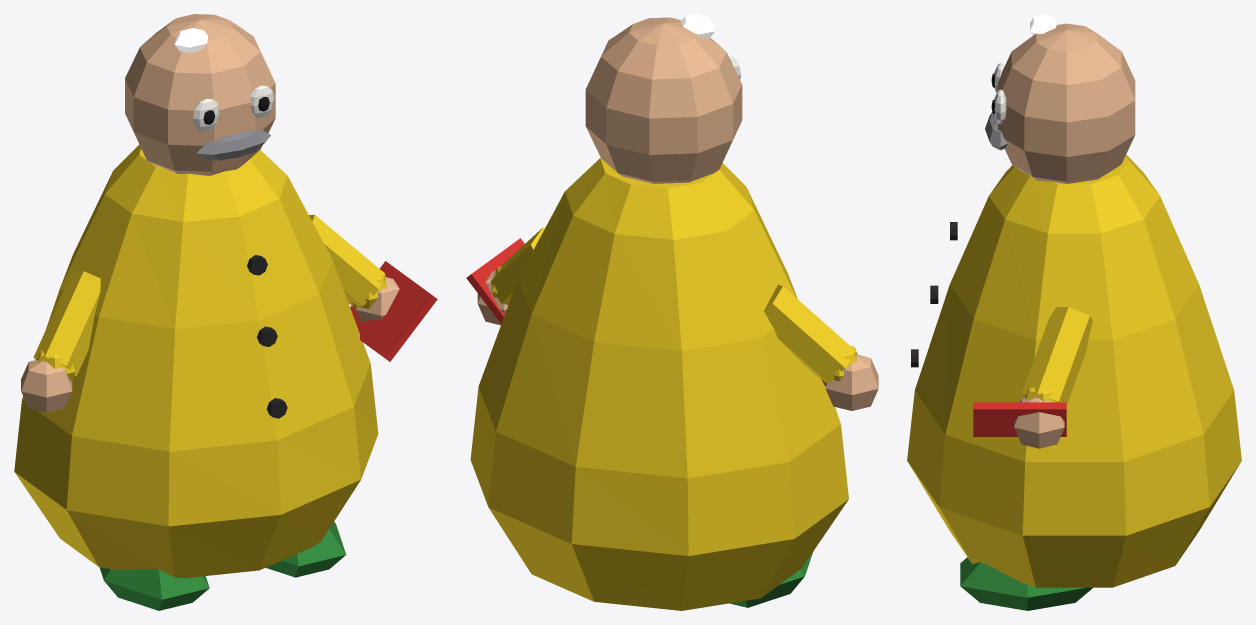
The model's file is npc_don_chorro.glb.
3 renders of one model, left to right at view 1: azimuth 30°, elevation 25°; view 2: azimuth 150°, elevation 25°; view 3: azimuth 270°, elevation 25°, orthographic. The views are drawn at different scales.
Parts seen in each view (by area): view 1: body_chorro_raincoat, head_chorro_skin, arms_chorro_raincoat, legs_chorro_boots, cloth_chorro_cloth, arms_chorro_skin, face_chorro_mustache, face_white, head_chorro_shine; view 2: body_chorro_raincoat, head_chorro_skin, arms_chorro_raincoat, arms_chorro_skin, cloth_chorro_cloth, legs_chorro_boots, head_chorro_shine; view 3: body_chorro_raincoat, head_chorro_skin, arms_chorro_raincoat, legs_chorro_boots, cloth_chorro_cloth, arms_chorro_skin, face_white, face_chorro_mustache.
Part boxes in pixels (x1,y1,x2,y2): body_chorro_raincoat: (14,144,378,578); head_chorro_skin: (125,14,275,175); arms_chorro_raincoat: (33,214,386,381); legs_chorro_boots: (99,522,346,610); cloth_chorro_cloth: (350,261,437,361); arms_chorro_skin: (21,277,399,412); face_chorro_mustache: (196,129,270,160); face_white: (193,85,274,131); head_chorro_shine: (174,28,207,52); body_chorro_raincoat: (470,158,848,610); head_chorro_skin: (585,17,742,183); arms_chorro_raincoat: (490,227,857,385); arms_chorro_skin: (477,271,878,410); cloth_chorro_cloth: (466,238,524,323); legs_chorro_boots: (729,552,812,607); head_chorro_shine: (680,14,714,38); body_chorro_raincoat: (907,154,1241,587); head_chorro_skin: (998,23,1135,183); arms_chorro_raincoat: (1022,307,1092,404); legs_chorro_boots: (960,557,1092,610); cloth_chorro_cloth: (973,402,1066,436); arms_chorro_skin: (1014,397,1064,448); face_white: (994,63,1006,123); face_chorro_mustache: (985,112,1007,150).
Bounding box in the file's own units: 1.13 × 1.54 × 0.86.
